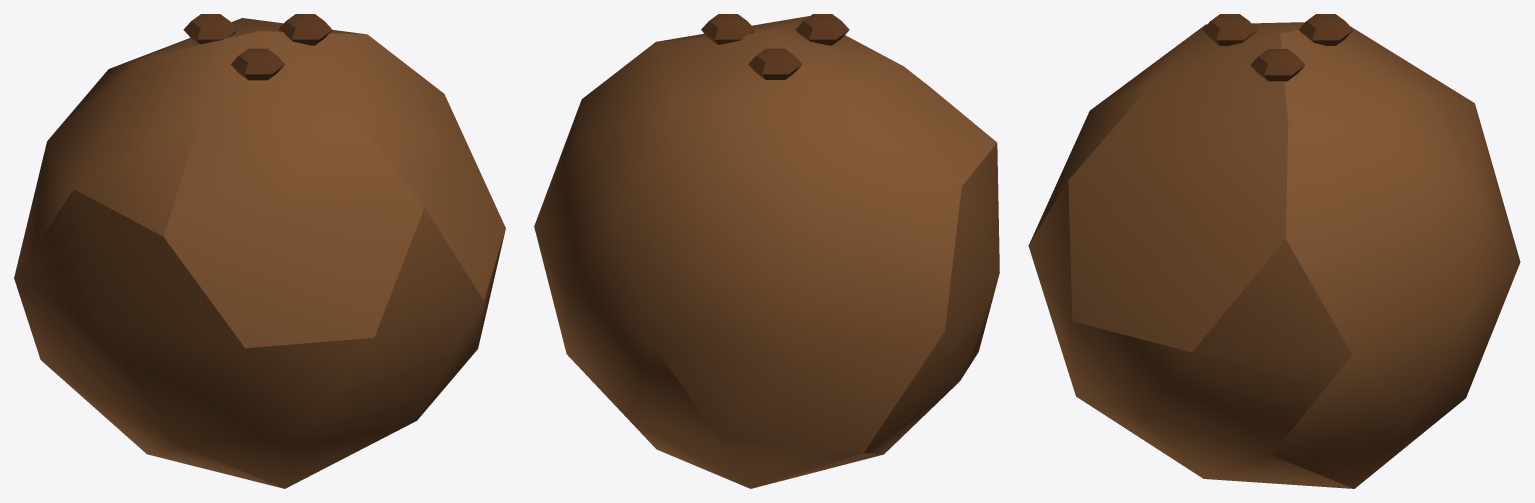
File: Coconut.fbx
The picture shows the model from 3 angles, left to right: view 1: azimuth 30°, elevation 25°; view 2: azimuth 150°, elevation 25°; view 3: azimuth 270°, elevation 25°; orthographic projection.
Parts seen in each view (by area): view 1: Coconut; view 2: Coconut; view 3: Coconut.
Part boxes in pixels (x1,y1,x2,y2): Coconut: [14, 14, 505, 488]; Coconut: [534, 14, 999, 488]; Coconut: [1028, 14, 1520, 488].
Bounding box in the file's own units: 1.22 × 1.23 × 1.24.
Materials: 1 (1 with a texture image).
